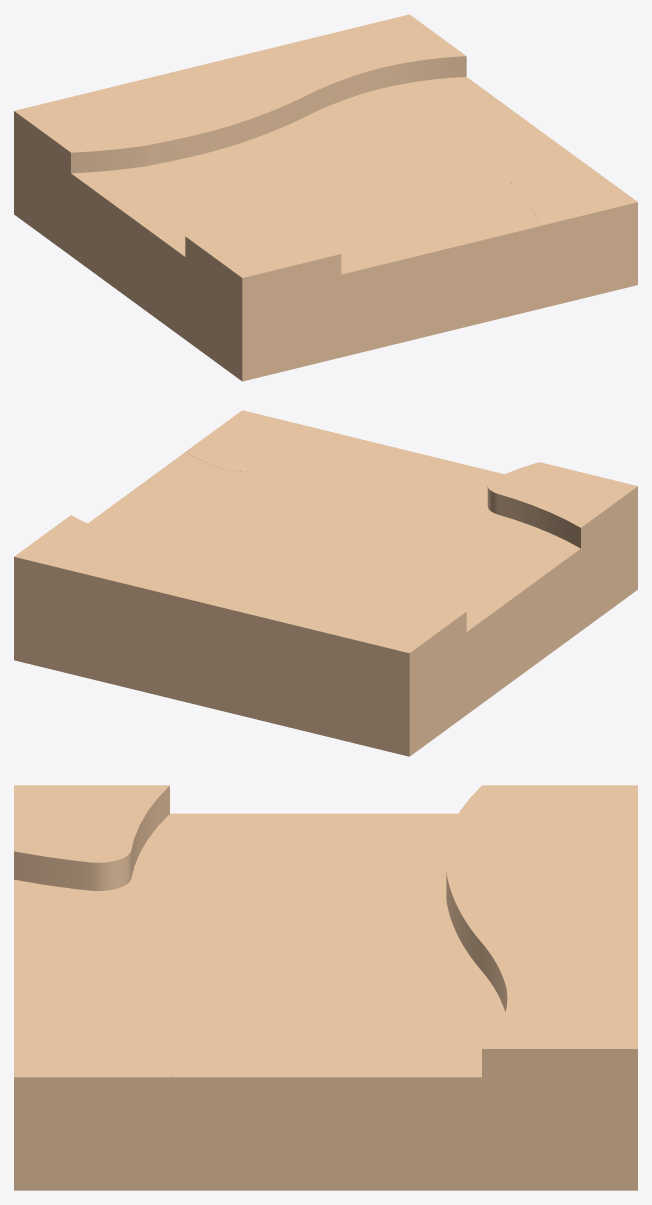
File: ground_dirtRiverT-L.fbx
The picture shows the model from 3 angles, top to bottom: view 1: azimuth 30°, elevation 25°; view 2: azimuth 150°, elevation 25°; view 3: azimuth 270°, elevation 25°; orthographic projection. The views are drawn at different scales.
Parts seen in each view (by area): view 1: ground_dirtRiverT; view 2: ground_dirtRiverT; view 3: ground_dirtRiverT.
Boxes of the visible parts, x1,y1,x2,y2 form: ground_dirtRiverT: (14,14,637,381); ground_dirtRiverT: (14,410,637,756); ground_dirtRiverT: (14,785,637,1190).
Bounding box in the file's own units: 1000 × 250 × 1000.
